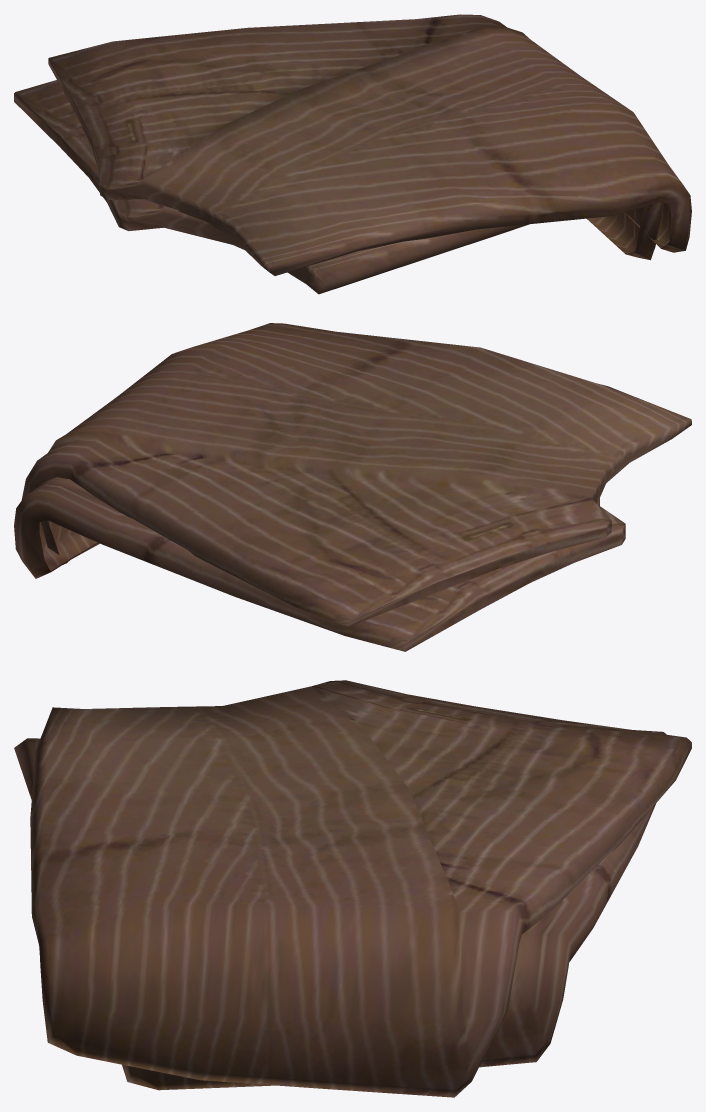
Rendered from clothing_pants_draping02.glb.
3 views of the same model, one above another, from view 1: azimuth 30°, elevation 25°; view 2: azimuth 150°, elevation 25°; view 3: azimuth 270°, elevation 25° (orthographic). The views are drawn at different scales.
Visible parts, largest first — view 1: clothing_pants_draping02; view 2: clothing_pants_draping02; view 3: clothing_pants_draping02.
Boxes of the visible parts, left/top/right/bottom form: clothing_pants_draping02: left=14, top=14, right=691, bottom=294; clothing_pants_draping02: left=14, top=323, right=691, bottom=651; clothing_pants_draping02: left=14, top=680, right=691, bottom=1097.
Size of the model in its own units: 0.3083 by 0.0884 by 0.3146.
Materials: 1 (1 with a texture image).
